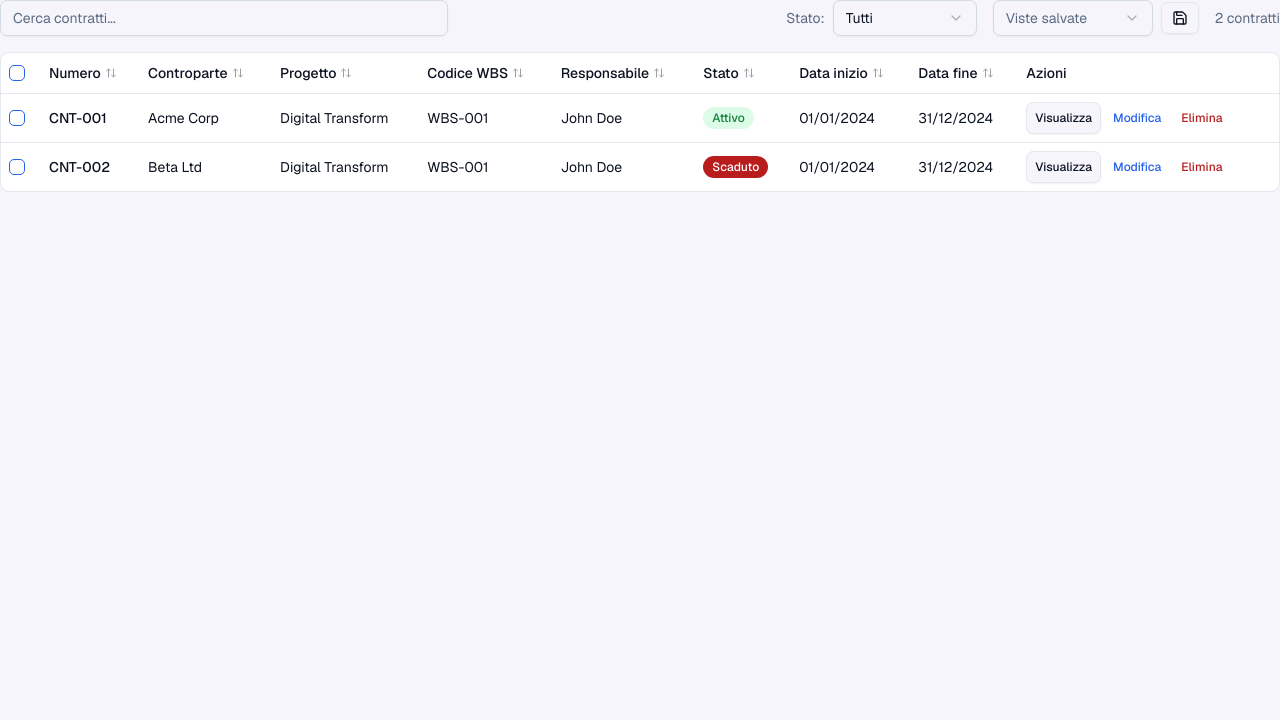
Test: ContractTable › cancels the bulk delete dialog without deleting anything
Click the checkbox named "Seleziona contratto CNT-001". click: [17, 118]
box: [9, 110, 25, 126]
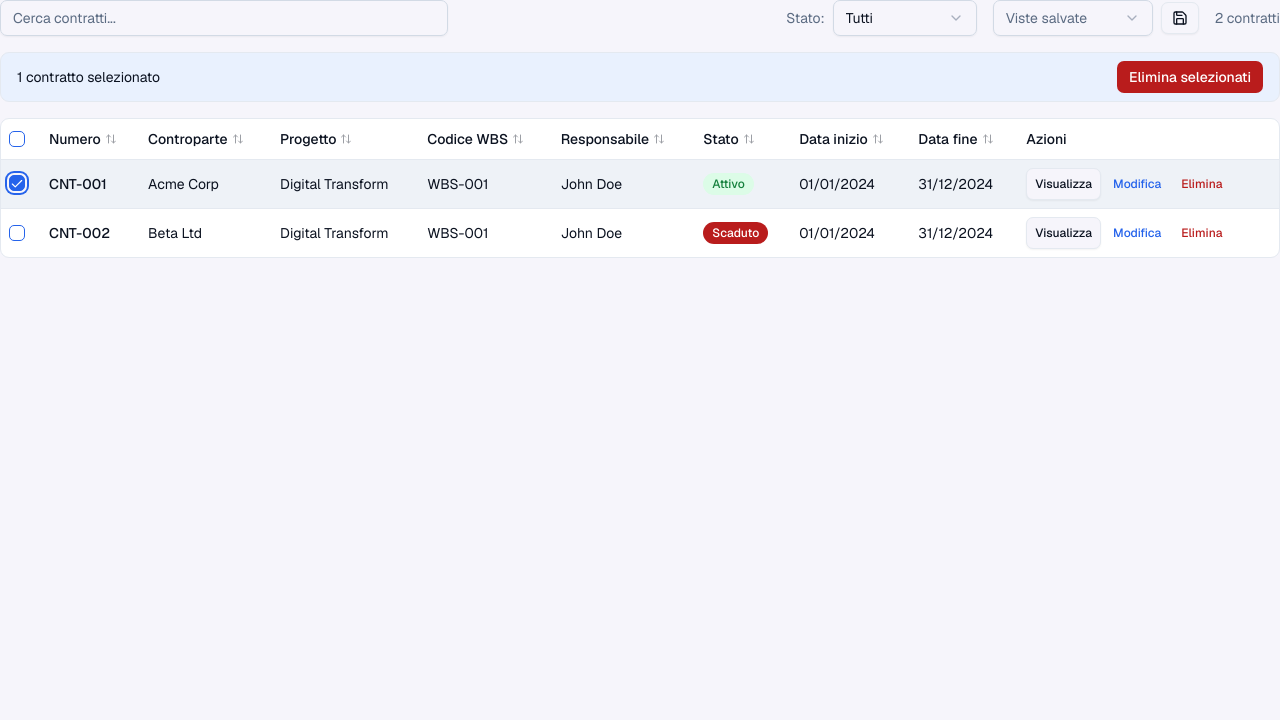
Click the button "Elimina selezionati". click: [1190, 77]
box: [1117, 61, 1263, 93]
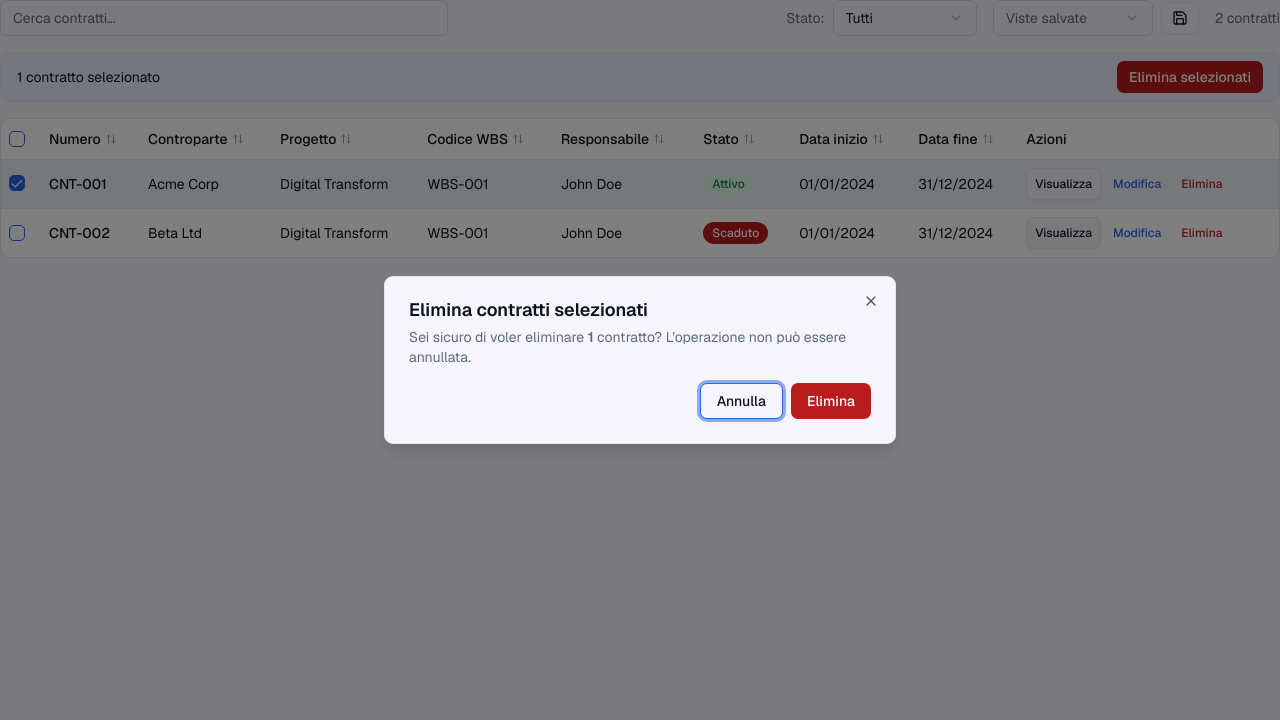
Click the button "Annulla". click: [741, 401]
box: [700, 383, 783, 419]
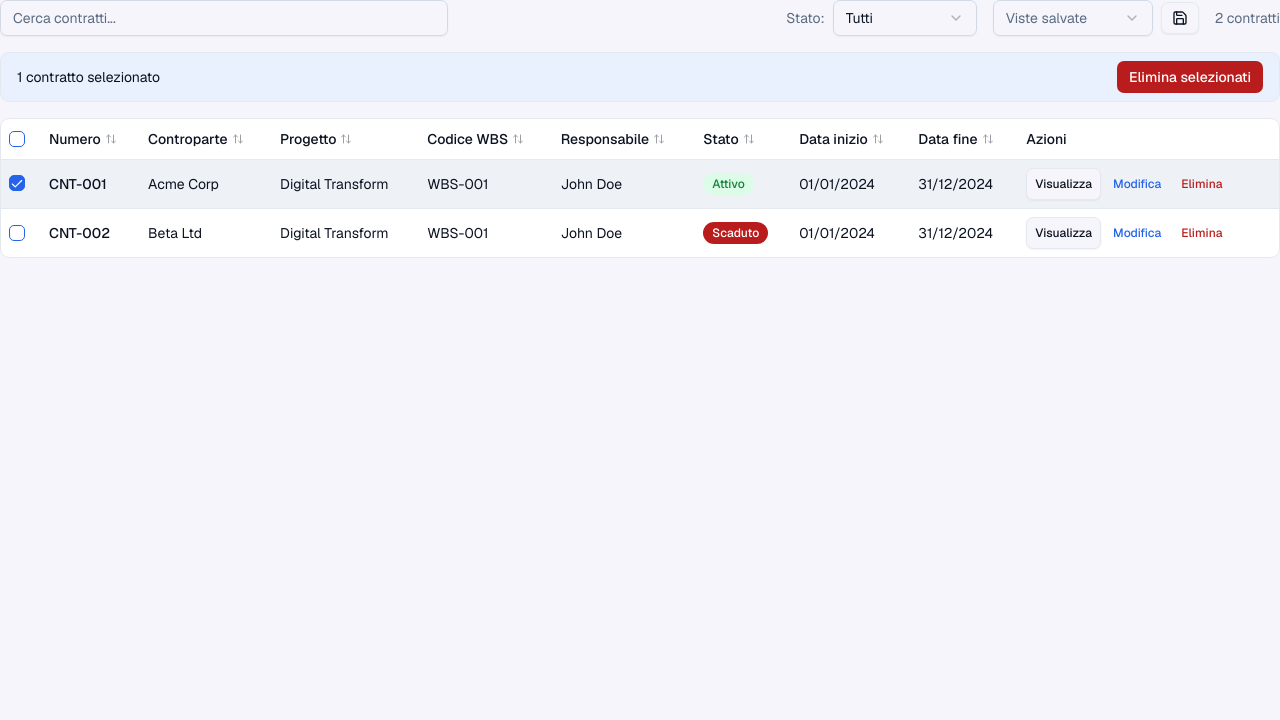
Result: the text "1 contratto selezionato" is shown at [17, 67, 160, 87]
Result: the dialog is gone
